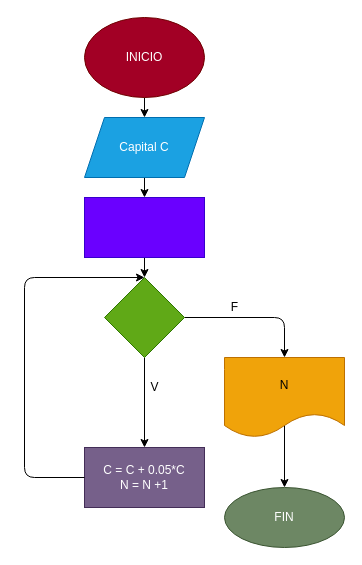
Some shapes in this 362 by 565 pixel diagram are drawn without their labels. The shapes that lost their labels are listed below. From the top down, each one's centre as x and y in pixels, then its label:
At point 144,227: "N = 2 * C sum = 0".
At point 144,317: "C < N".
